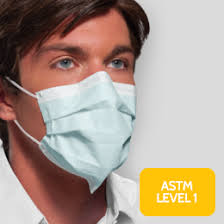mask: (6, 1, 141, 194)
